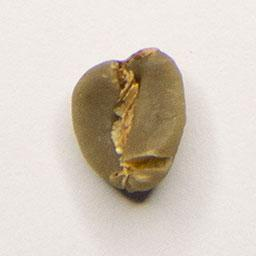premium: (67, 45, 190, 196)
